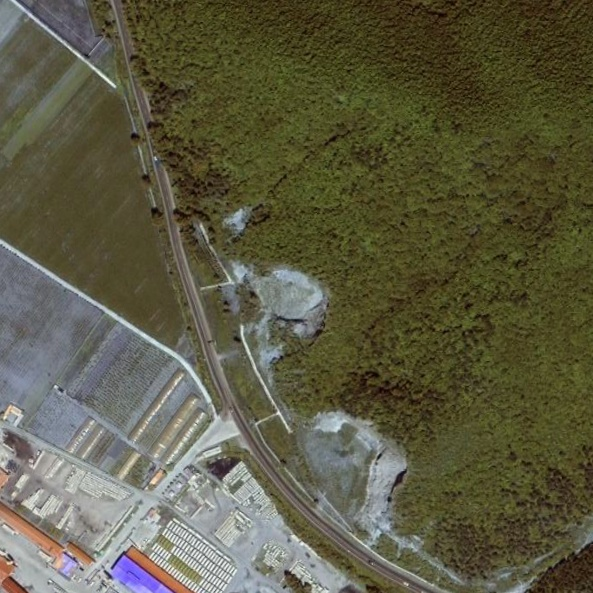slope: (291, 404, 409, 545), (230, 257, 328, 371), (221, 198, 253, 246)
